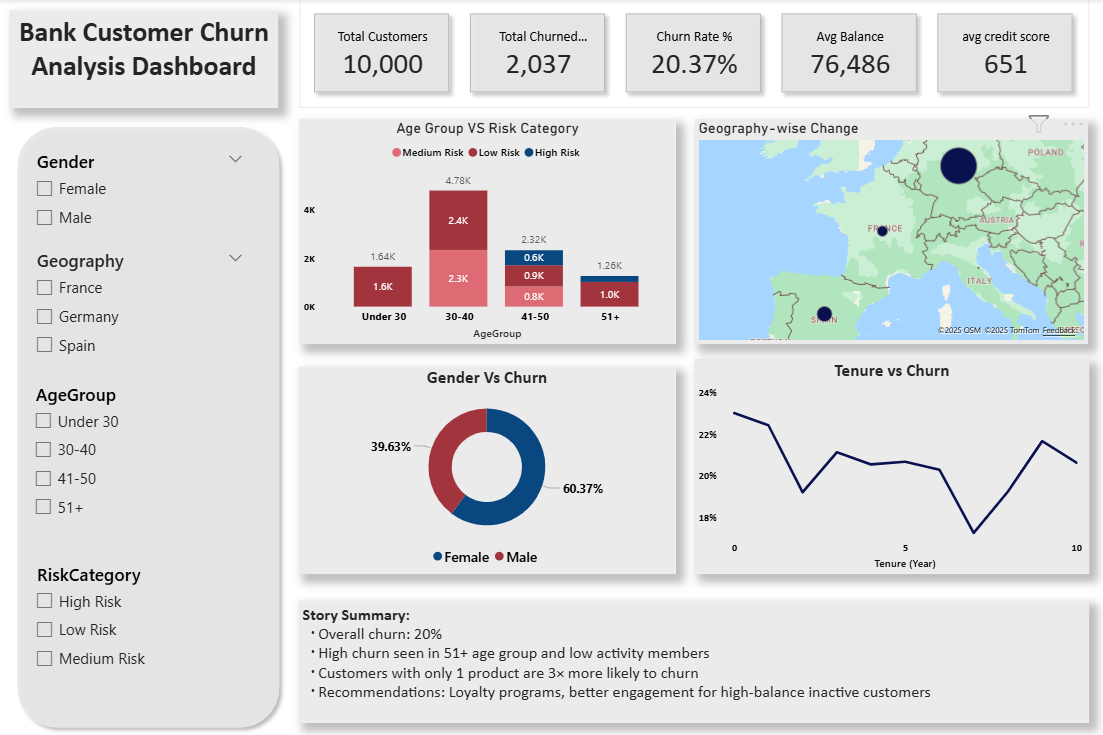

Layout of this report page (visuals, bound fields, positions):
{"tool":"powerbi","page":{"name":"Customer Churn Report","canvas":[1280,850],"ordinal":0},"visuals":[{"type":"shape","box":[14.4,138.6,320.5,711.7],"z":0},{"type":"cardVisual","fields":{"Data":["Calculations.Total Customers","Calculations.Total Churn","Calculations.Churn Rate %","Calculations.Avg Balance","Calculations.avg credit score"]},"box":[349.4,0,912.4,125.6],"z":1000},{"type":"columnChart","title":"Age Group VS Risk Category","fields":{"Category":["BankCustomerChurn.AgeGroup"],"Y":["CountNonNull(BankCustomerChurn.CustomerId)"],"Series":["HighRiskCustomers.RiskCategory"]},"box":[349.4,138.6,434.5,259.9],"z":2000},{"type":"donutChart","title":"Gender Vs Churn","fields":{"Category":["BankCustomerChurn.Gender"],"Y":["Calculations.Churn Rate %"]},"box":[347.9,424.4,436,239.6],"z":3000},{"type":"textbox","box":[14.4,13,310.4,112.6],"z":4000},{"type":"azureMap","title":"Geography-wise Change","fields":{"Category":["BankCustomerChurn.Geography"],"Size":["Calculations.Churn Rate %"]},"box":[805.5,138.6,454.7,259.9],"z":5000},{"type":"slicer","fields":{"Values":["BankCustomerChurn.Gender"]},"box":[33.2,168.9,262.7,114],"z":6000},{"type":"lineChart","title":"Tenure vs Churn","fields":{"Y":["Calculations.Churn Rate %"],"Category":["BankCustomerChurn.Tenure"]},"box":[805.5,415.8,456.2,248.3],"z":7000},{"type":"textbox","box":[347.9,694.4,913.8,141.5],"z":8000},{"type":"slicer","fields":{"Values":["BankCustomerChurn.Geography"]},"box":[33.2,282.9,262.7,154.5],"z":9000},{"type":"slicer","fields":{"Values":["BankCustomerChurn.AgeGroup"]},"box":[31.8,437.4,264.2,181.9],"z":10000},{"type":"slicer","fields":{"Values":["HighRiskCustomers.RiskCategory"]},"box":[33.2,645.3,262.7,154.5],"z":11000}]}

Visuals, with their boxes in screenshot pixels (x1, y1, x2, y2), scaled from the page's 1280x850 canvas onto the 1103x735 screenshot:
shape: 12,120,289,734
cardVisual - Calculations.Total Customers x Calculations.Total Churn: 301,0,1087,109
"Age Group VS Risk Category" columnChart: 301,120,676,345
"Gender Vs Churn" donutChart: 300,367,676,574
textbox: 12,11,280,109
"Geography-wise Change" azureMap: 694,120,1086,345
slicer - BankCustomerChurn.Gender: 29,146,255,245
"Tenure vs Churn" lineChart: 694,360,1087,574
textbox: 300,600,1087,723
slicer - BankCustomerChurn.Geography: 29,245,255,378
slicer - BankCustomerChurn.AgeGroup: 27,378,255,536
slicer - HighRiskCustomers.RiskCategory: 29,558,255,692
